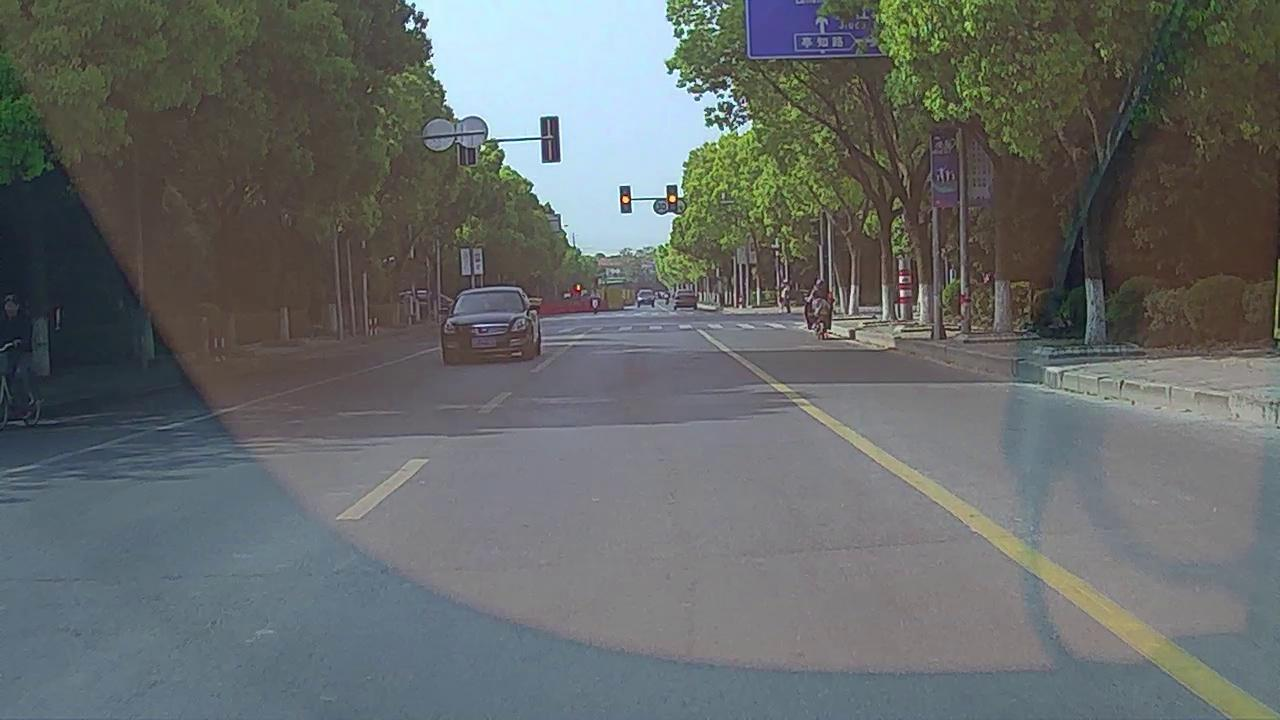traffic_light: (620, 186, 631, 212), (667, 184, 677, 211)
